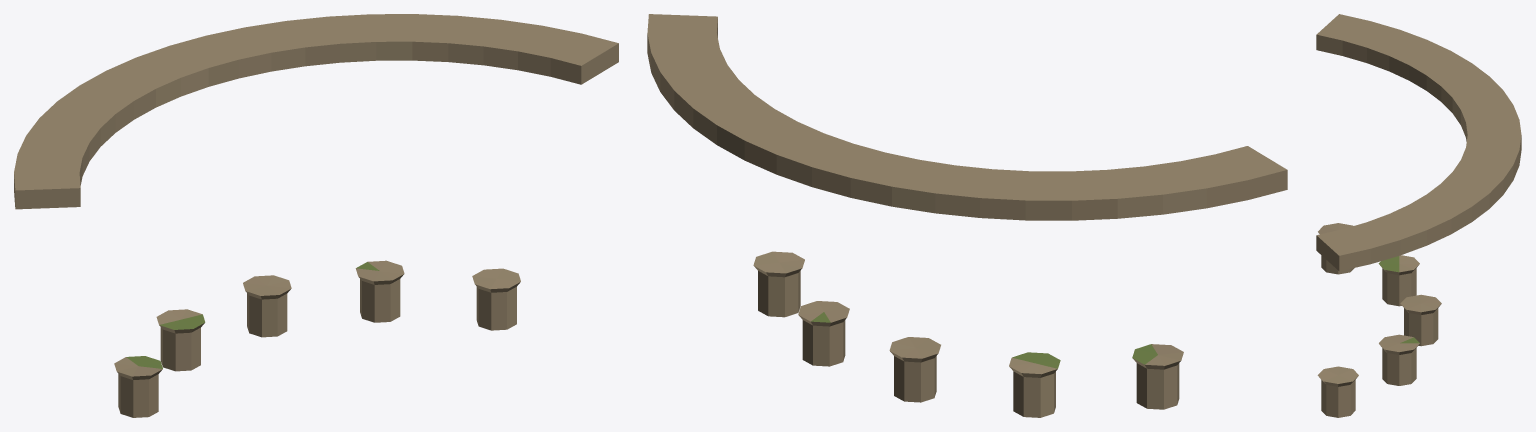
File: TrophyWall.glb
The picture shows the model from 3 angles, left to right: view 1: azimuth 30°, elevation 25°; view 2: azimuth 150°, elevation 25°; view 3: azimuth 270°, elevation 25°; orthographic projection. The views are drawn at different scales.
Parts seen in each view (by area): view 1: Cornice; view 2: Cornice; view 3: Cornice.
Part boxes in pixels (<box>): Cornice: <box>14,14,618,417</box>; Cornice: <box>647,14,1287,417</box>; Cornice: <box>1316,14,1521,417</box>.
Bounding box in the file's own units: 23.38 × 9.2 × 8.38.
